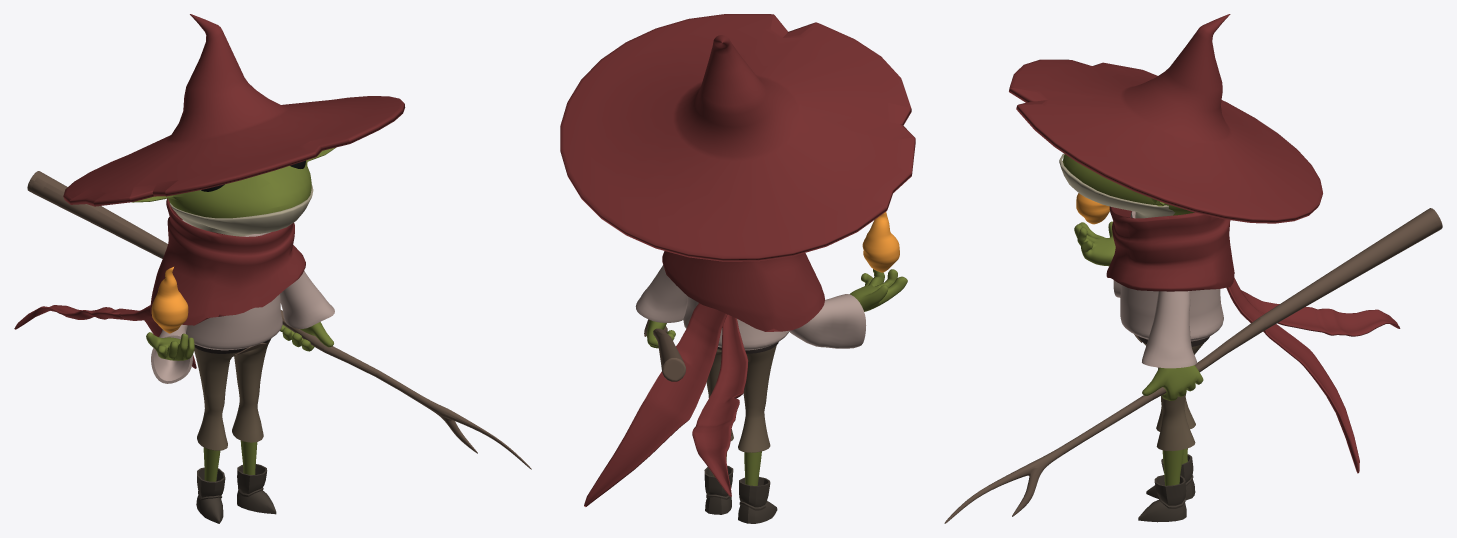
File: elf24.glb
3 views of the same model, side by side, from view 1: azimuth 30°, elevation 25°; view 2: azimuth 150°, elevation 25°; view 3: azimuth 270°, elevation 25° (orthographic). The views are drawn at different scales.
Parts seen in each view (by area): view 1: Subdiv 8, Cube 3, Subdiv copy (×2), Subdiv 12, head, Cube 5, Subdiv copy 2 (×2), Subdiv 11, Cylinder 4, Subdiv 9, Subdiv 10, Cube 8 (+1 smaller); view 2: Subdiv 8, Subdiv 10 (×2), Cube 3, Subdiv copy (×2), Cylinder 5, Cylinder 4, Subdiv copy 2, Cube 8, Cube 5, Subdiv 12, Subdiv 9, Cylinder 2; view 3: Subdiv 8, Cube 3, Subdiv 12, Subdiv 10 (×2), Cylinder 4, Cube 5, Subdiv copy (×2), Subdiv 9 (×2), Subdiv copy 2 (×2), head, Subdiv 11.
Boxes of the visible parts, box(x1,y1,x2,y2) form: Subdiv 8: box(63, 14, 405, 206); Cube 3: box(150, 198, 305, 325); Subdiv copy (×2): box(146, 332, 269, 450); Subdiv 12: box(27, 171, 531, 469); head: box(132, 147, 336, 218); Cube 5: box(182, 219, 282, 350); Subdiv copy 2 (×2): box(151, 267, 333, 351); Subdiv 11: box(169, 184, 313, 236); Cylinder 4: box(280, 271, 334, 328); Subdiv 9: box(237, 464, 276, 514); Subdiv 10: box(14, 305, 151, 329); Cube 8: box(196, 467, 225, 523); Subdiv 8: box(560, 14, 915, 261); Subdiv 10 (×2): box(584, 303, 748, 506); Cube 3: box(662, 251, 824, 331); Subdiv copy (×2): box(706, 269, 907, 452); Cylinder 5: box(788, 294, 866, 348); Cylinder 4: box(635, 265, 687, 322); Subdiv copy 2: box(862, 212, 899, 272); Cube 8: box(738, 477, 777, 523); Cube 5: box(683, 296, 788, 350); Subdiv 12: box(644, 319, 686, 381); Subdiv 9: box(704, 465, 733, 514); Cylinder 2: box(744, 451, 761, 485); Subdiv 8: box(1009, 14, 1322, 223); Cube 3: box(1106, 206, 1234, 291); Subdiv 12: box(944, 208, 1442, 523); Subdiv 10 (×2): box(1226, 277, 1400, 473); Cylinder 4: box(1142, 291, 1196, 368); Cube 5: box(1120, 211, 1223, 341); Subdiv copy (×2): box(1074, 221, 1203, 451); Subdiv 9 (×2): box(1138, 449, 1186, 522); Subdiv copy 2 (×2): box(1076, 193, 1203, 400); head: box(1062, 154, 1194, 215); Subdiv 11: box(1059, 153, 1175, 218).
Size of the model in its own units: 3.54 by 4.73 by 4.39.
